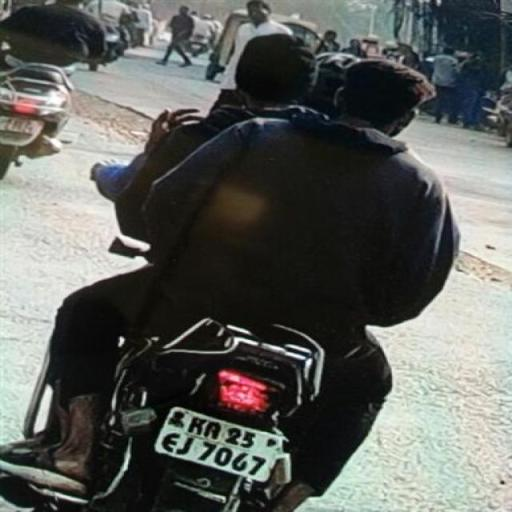tripple riding: (80, 24, 480, 308)
